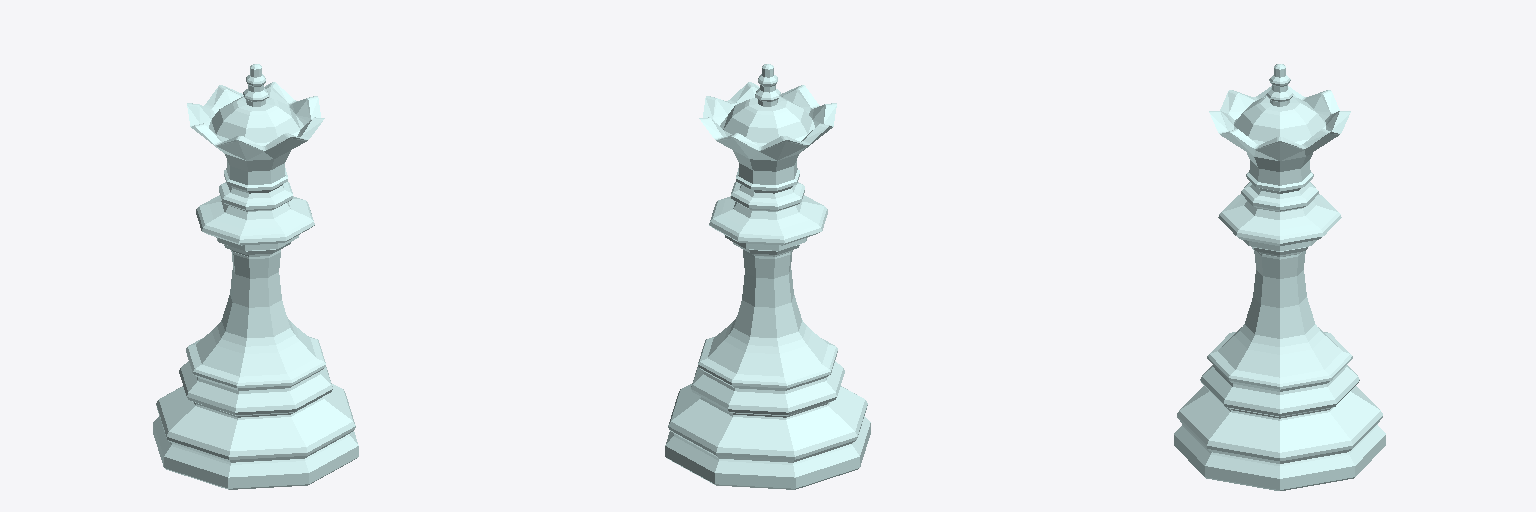
Rendered from Queen.obj.
3 renders of one model, left to right at view 1: azimuth 30°, elevation 25°; view 2: azimuth 150°, elevation 25°; view 3: azimuth 270°, elevation 25°, orthographic.
Visible parts, largest first — view 1: Queen.001_Cylinder.019; view 2: Queen.001_Cylinder.019; view 3: Queen.001_Cylinder.019.
Part boxes in pixels (x1,y1,x2,y2): Queen.001_Cylinder.019: (153,64,358,489); Queen.001_Cylinder.019: (665,64,870,489); Queen.001_Cylinder.019: (1174,64,1385,490).
Size of the model in its own units: 0.3999 by 0.7948 by 0.3999.